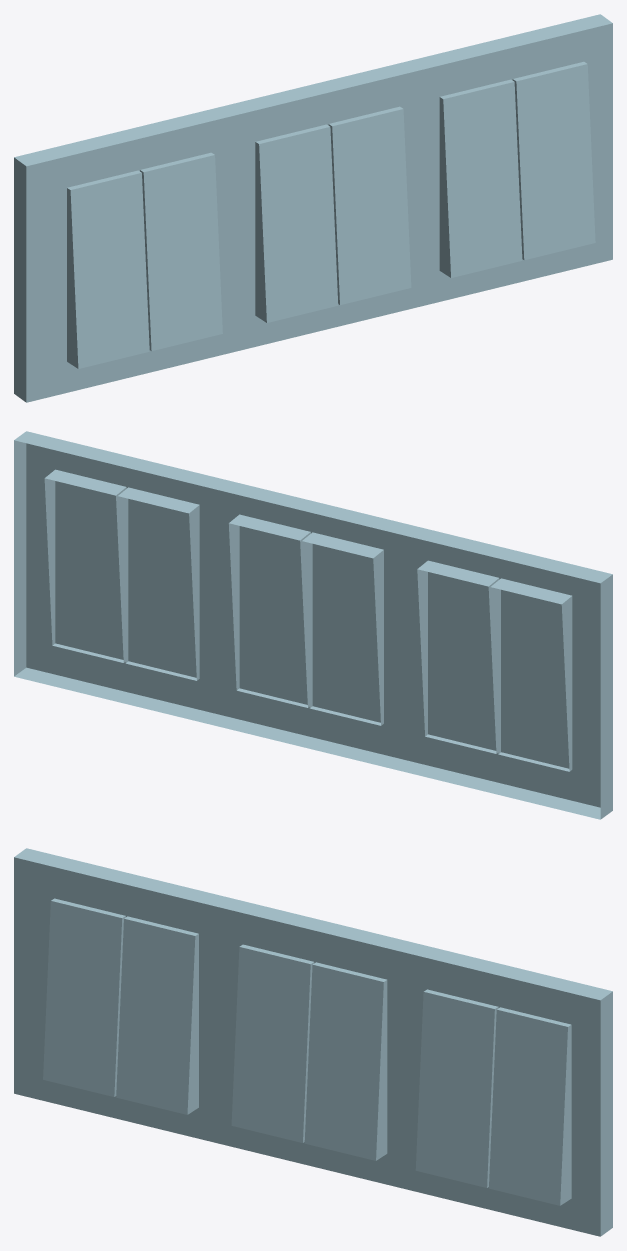
The model's file is Switch_4.fbx.
3 views of the same model, one above another, from view 1: azimuth 30°, elevation 25°; view 2: azimuth 150°, elevation 25°; view 3: azimuth 330°, elevation 25° (orthographic).
Visible parts, largest first — view 1: Switch_4; view 2: Switch_4; view 3: Switch_4.
Part boxes in pixels (x1=…): Switch_4: x1=14, y1=14, x2=612, y2=402; Switch_4: x1=14, y1=431, x2=612, y2=819; Switch_4: x1=14, y1=848, x2=612, y2=1236.
Size of the model in its own units: 39.01 by 2.75 by 15.03.
